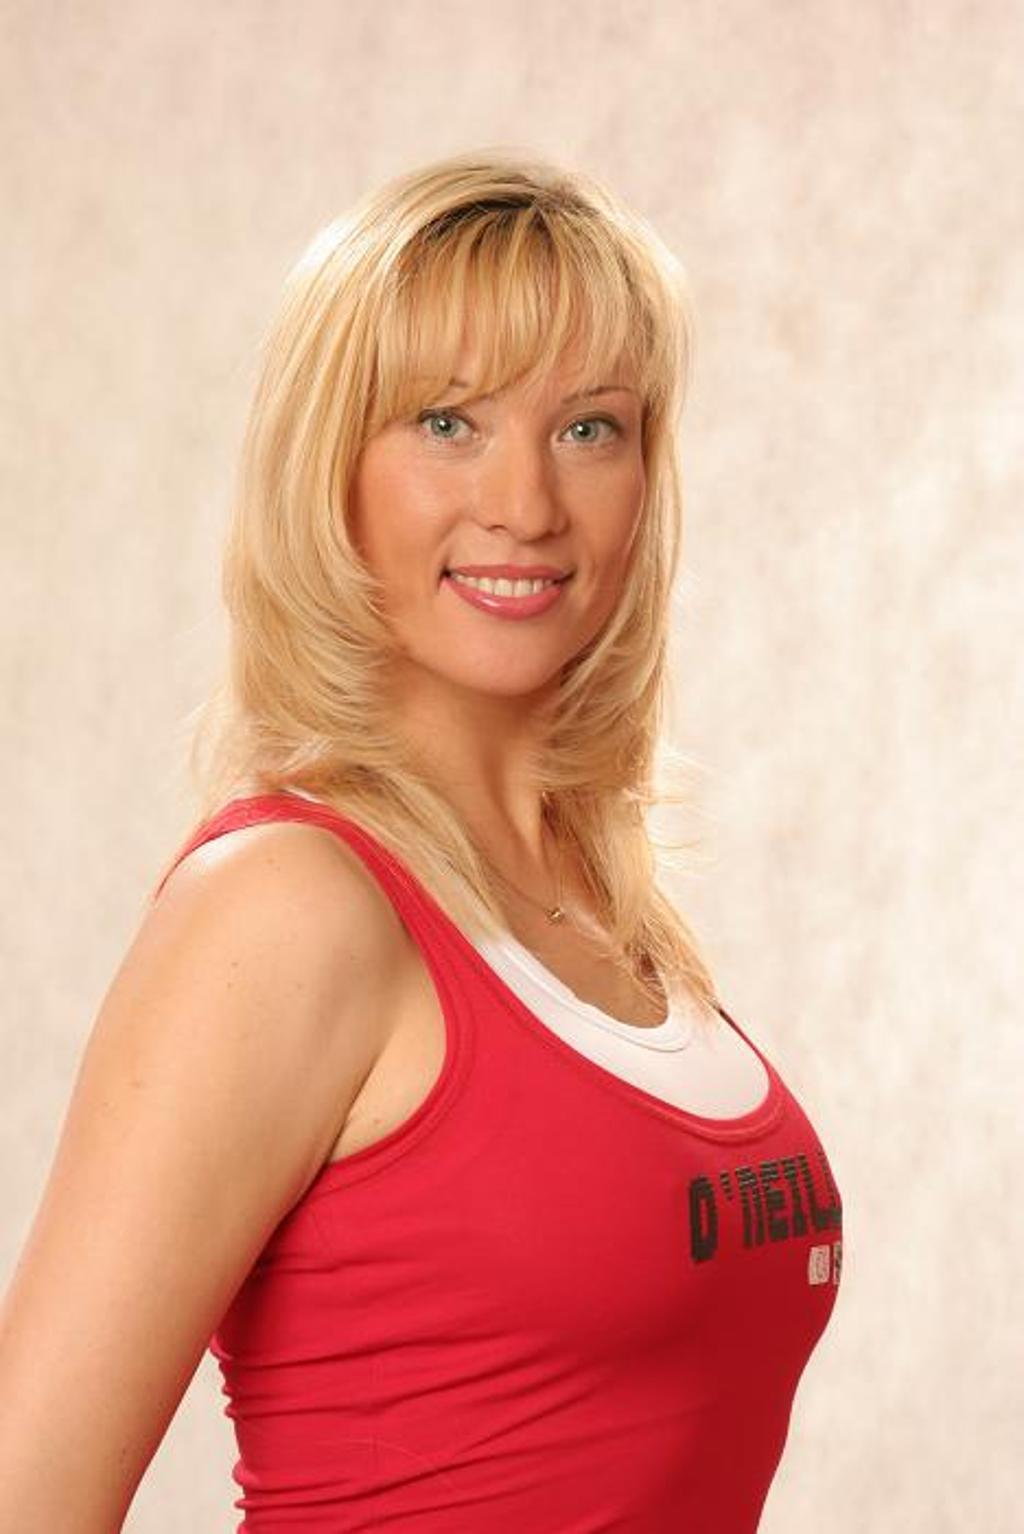face: (369, 256, 653, 699)
